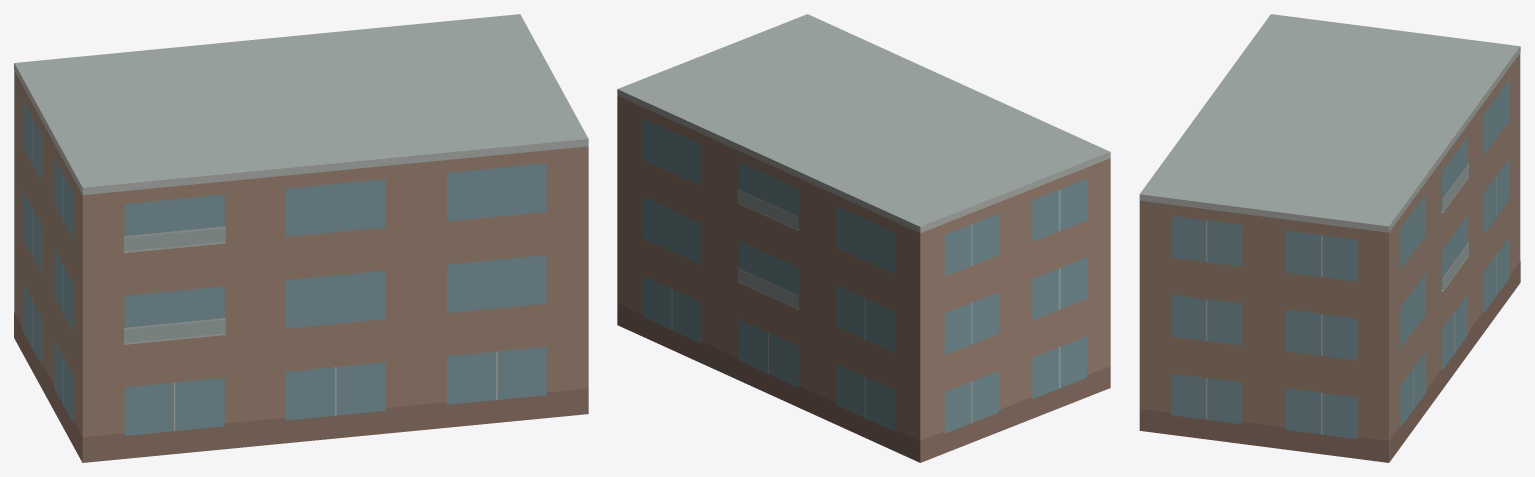
The model's file is survey-upis-32979438.glb.
3 views of the same model, side by side, from view 1: azimuth 30°, elevation 25°; view 2: azimuth 150°, elevation 25°; view 3: azimuth 270°, elevation 25° (orthographic). The views are drawn at different scales.
Visible parts, largest first — view 1: survey-upis-32979438.tmp; view 2: survey-upis-32979438.tmp; view 3: survey-upis-32979438.tmp.
Part boxes in pixels (left/top/right/bottom): survey-upis-32979438.tmp: left=14, top=14, right=588, bottom=462; survey-upis-32979438.tmp: left=617, top=14, right=1110, bottom=462; survey-upis-32979438.tmp: left=1139, top=14, right=1520, bottom=462.
Bounding box in the file's own units: 17.64 × 9.15 × 13.37.
